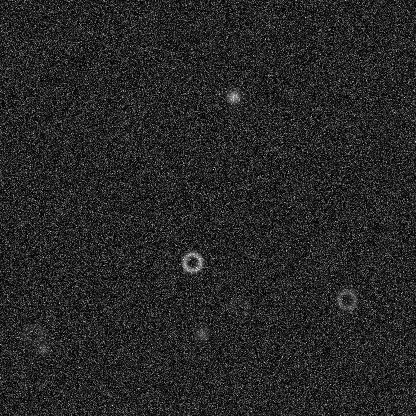Ring: (180, 250, 204, 274), (21, 321, 45, 345), (227, 294, 251, 318), (334, 287, 358, 311)
Spot: (193, 325, 209, 341), (34, 340, 50, 356), (225, 88, 241, 104)
